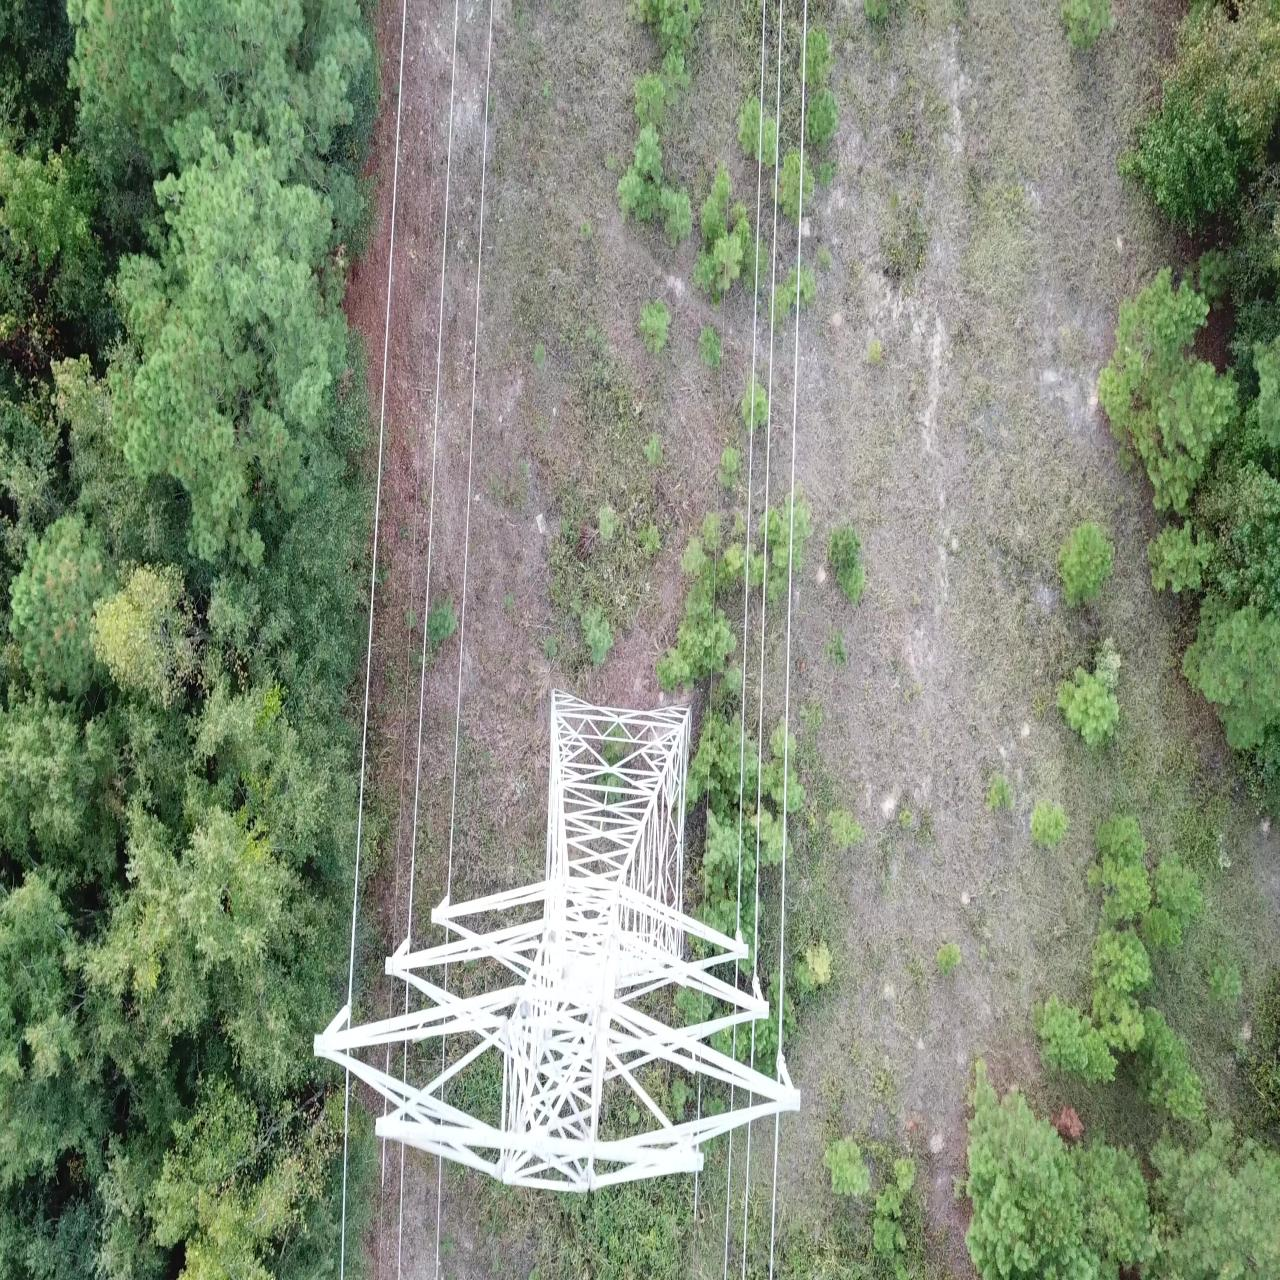cable: (349, 1, 406, 1000), (408, 0, 458, 937), (393, 0, 441, 955), (448, 0, 492, 896), (778, 0, 806, 1049), (704, 0, 735, 925), (755, 0, 782, 971), (737, 0, 765, 928), (341, 1068, 348, 1279), (770, 1114, 778, 1279), (743, 1121, 750, 1279), (724, 1130, 731, 1279), (380, 1138, 384, 1279), (399, 1143, 403, 1279), (692, 1171, 697, 1279), (436, 1157, 441, 1279), (751, 1021, 755, 1068), (389, 975, 393, 1019), (733, 1026, 736, 1058), (735, 959, 738, 988), (406, 982, 408, 1014), (347, 1015, 350, 1029), (384, 1098, 387, 1116), (445, 928, 448, 944), (407, 948, 410, 955), (696, 1144, 697, 1153)
tower_lattice: (314, 687, 801, 1193)
